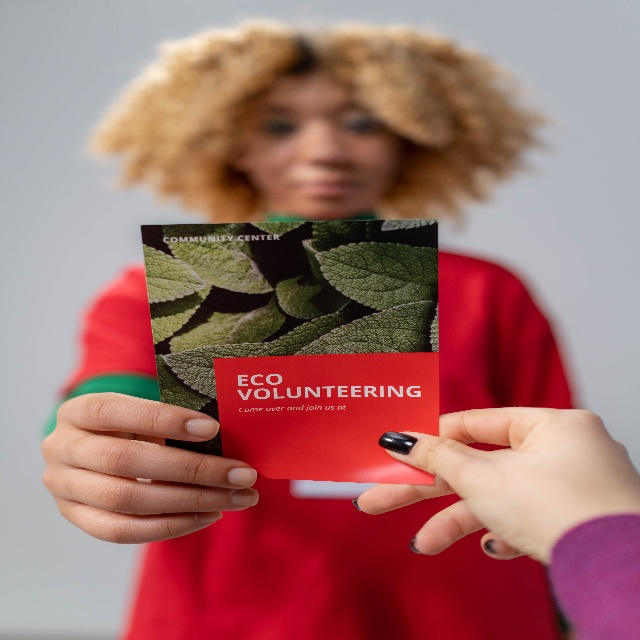Sin_guantes: (343, 395, 640, 576), (32, 405, 260, 531)
